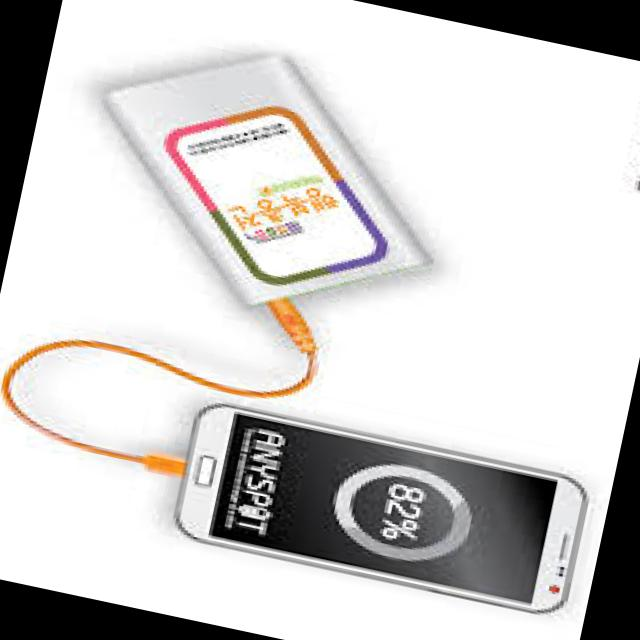portable-charger: (60, 12, 472, 347)
